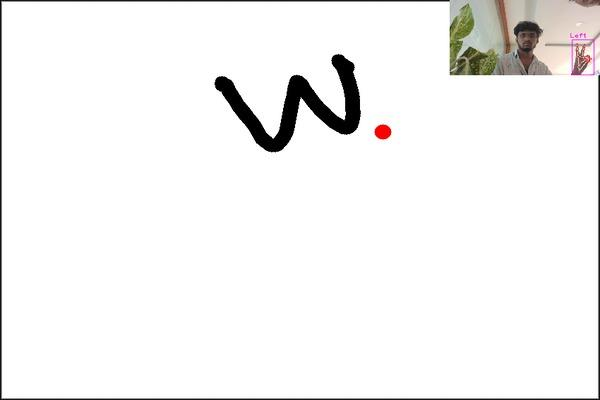w: (203, 48, 370, 174)
